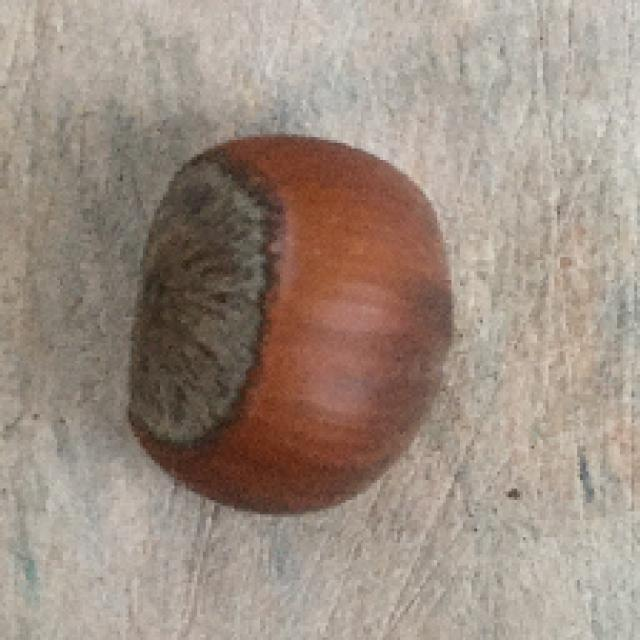qualityHazelnut: (114, 119, 477, 519)
